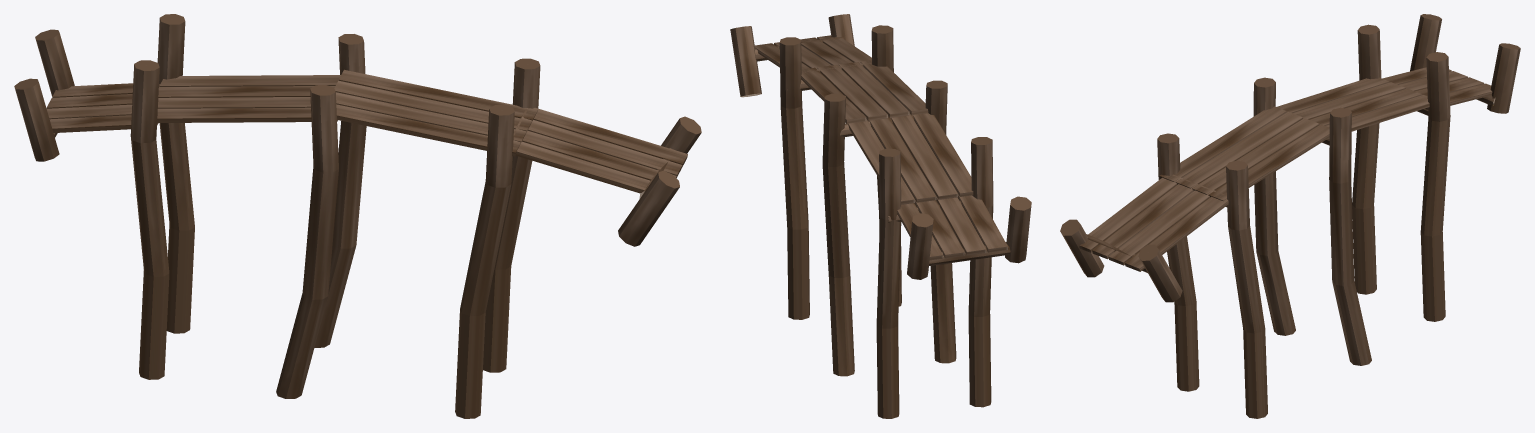
Rendered from bridge.fbx.
The picture shows the model from 3 angles, left to right: view 1: azimuth 30°, elevation 25°; view 2: azimuth 150°, elevation 25°; view 3: azimuth 270°, elevation 25°; orthographic projection. The views are drawn at different scales.
Visible parts, largest first — view 1: bridge; view 2: bridge; view 3: bridge.
Boxes of the visible parts, left/top/right/bottom form: bridge: left=14, top=14, right=701, bottom=418; bridge: left=730, top=14, right=1031, bottom=418; bridge: left=1060, top=14, right=1520, bottom=418.
Bounding box in the file's own units: 713 × 424 × 655.
